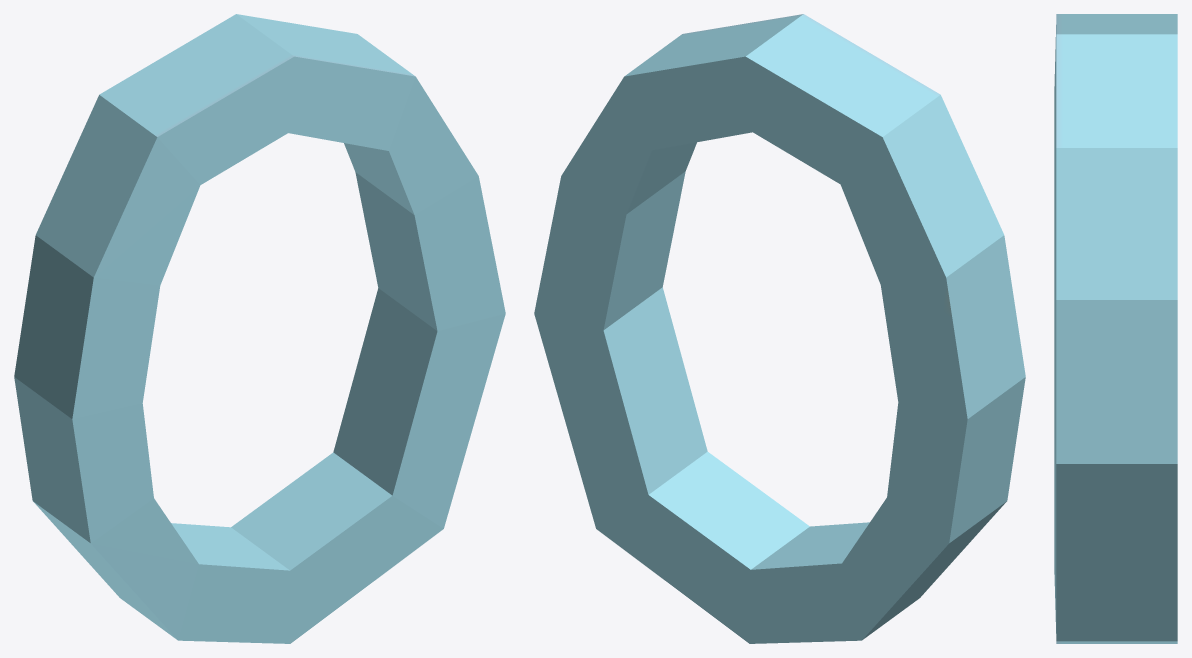
File: Props-TextBanner-Motel_O.fbx
The picture shows the model from 3 angles, left to right: view 1: azimuth 30°, elevation 25°; view 2: azimuth 150°, elevation 25°; view 3: azimuth 270°, elevation 25°; orthographic projection. The views are drawn at different scales.
Visible parts, largest first — view 1: Props-TextBanner-Motel_O; view 2: Props-TextBanner-Motel_O; view 3: Props-TextBanner-Motel_O.
Part boxes in pixels (x1,y1,x2,y2): Props-TextBanner-Motel_O: [14, 14, 505, 643]; Props-TextBanner-Motel_O: [534, 14, 1025, 643]; Props-TextBanner-Motel_O: [1054, 14, 1177, 643].
Size of the model in its own units: 21.06 by 27.22 by 4.98.
